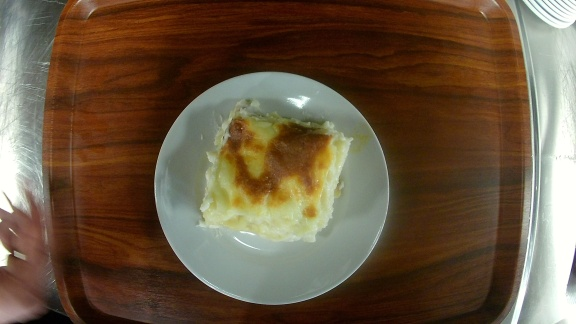firinmakarna: (152, 71, 392, 306)
